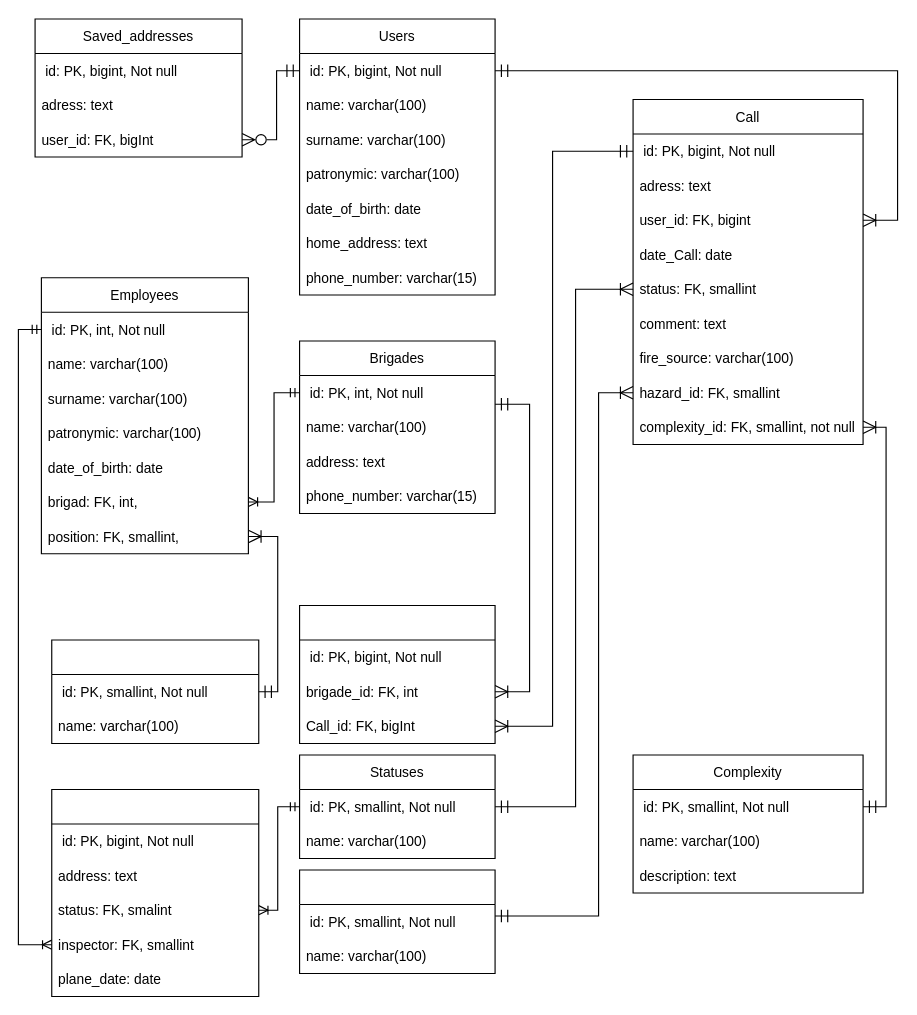
This 917x1015 diagram has some shape labels left out. The shapes that lost their labels are listed below. From the top down, each one's box as (x1, y1, x2, y2) in pixels, then its label:
(51, 639, 259, 743): Position
(298, 604, 495, 743): Brigades_call
(51, 788, 259, 996): Verification_required
(298, 869, 495, 973): Hazards
